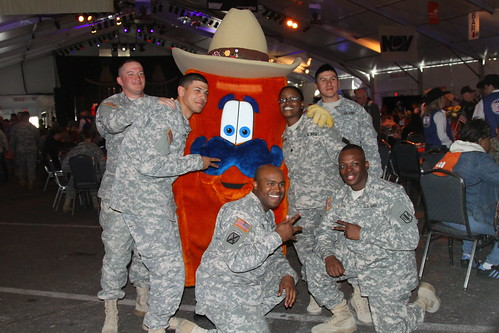soldier: (313, 150, 432, 333), (125, 78, 206, 333), (207, 167, 297, 333), (104, 52, 153, 329), (270, 91, 346, 257), (310, 65, 379, 158)
